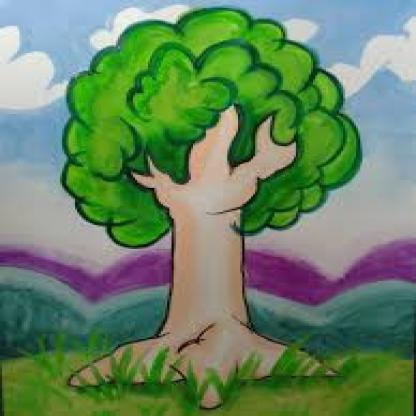branch_sharp: (126, 96, 300, 208)
crown_cloud: (69, 9, 365, 249)
root_upside: (69, 320, 345, 408)
trunk_straight: (164, 251, 255, 305)
